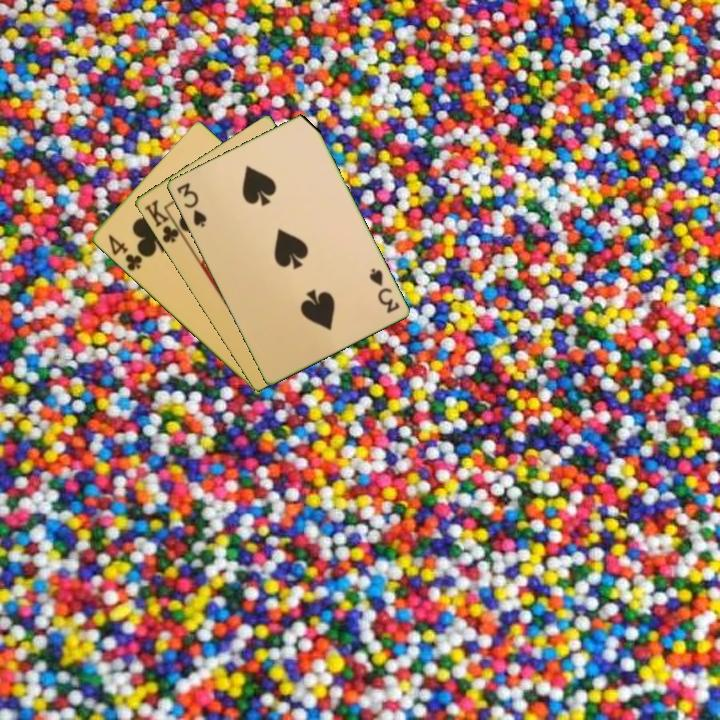3s: (365, 264, 402, 316), (173, 179, 209, 230)
4c: (104, 231, 145, 274)
Kc: (140, 196, 186, 246)
